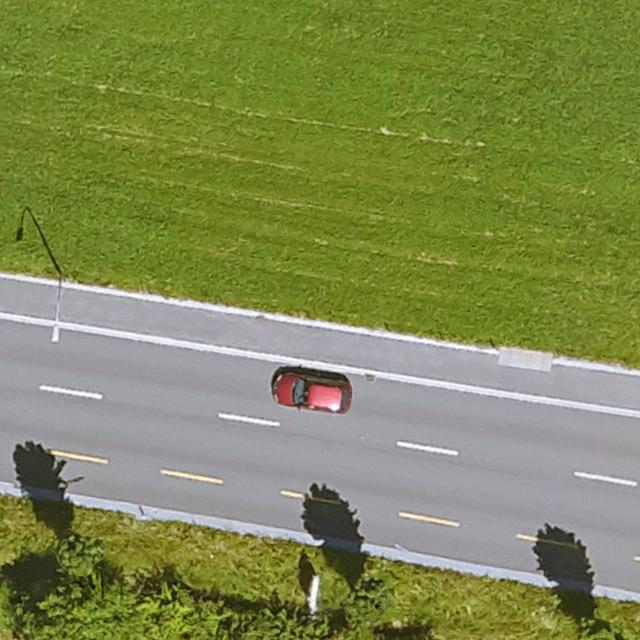tree: (38, 579, 128, 640), (128, 586, 213, 640), (222, 608, 336, 640), (52, 535, 103, 572), (355, 575, 390, 614), (585, 625, 627, 640)
